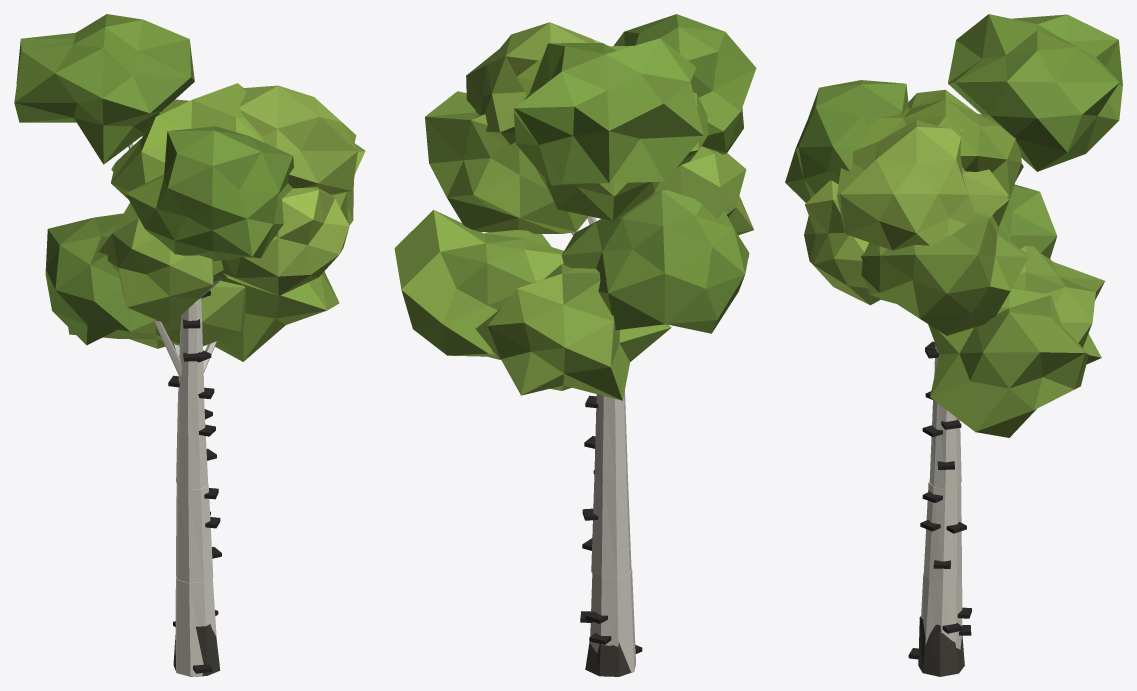
The model's file is Tree_Birch.glb.
3 renders of one model, left to right at view 1: azimuth 30°, elevation 25°; view 2: azimuth 150°, elevation 25°; view 3: azimuth 270°, elevation 25°, orthographic. The views are drawn at different scales.
Visible parts, largest first — view 1: Mat_Leaves_72933b, Mat_Leaves_7d9f40, Mat_Leaves_8aac47, Mat_Cloth_dfdbcf, Mat_Stone_2f2d2a, Mat_Stone_282624, Mat_Cloth_c8c4ba; view 2: Mat_Leaves_72933b, Mat_Leaves_7d9f40, Mat_Leaves_8aac47, Mat_Cloth_dfdbcf, Mat_Stone_2f2d2a, Mat_Stone_282624; view 3: Mat_Leaves_72933b, Mat_Leaves_8aac47, Mat_Leaves_7d9f40, Mat_Cloth_dfdbcf, Mat_Stone_2f2d2a, Mat_Stone_282624.
Boxes of the visible parts, left/top/right/bottom form: Mat_Leaves_72933b: left=14, top=14, right=364, bottom=361; Mat_Leaves_7d9f40: left=20, top=15, right=364, bottom=361; Mat_Leaves_8aac47: left=22, top=27, right=365, bottom=348; Mat_Cloth_dfdbcf: left=175, top=298, right=216, bottom=676; Mat_Stone_2f2d2a: left=168, top=290, right=220, bottom=676; Mat_Stone_282624: left=173, top=387, right=221, bottom=673; Mat_Cloth_c8c4ba: left=128, top=143, right=221, bottom=376; Mat_Leaves_72933b: left=394, top=14, right=755, bottom=390; Mat_Leaves_7d9f40: left=413, top=14, right=756, bottom=400; Mat_Leaves_8aac47: left=401, top=22, right=753, bottom=400; Mat_Cloth_dfdbcf: left=590, top=390, right=635, bottom=673; Mat_Stone_2f2d2a: left=585, top=395, right=630, bottom=676; Mat_Stone_282624: left=580, top=436, right=642, bottom=653; Mat_Leaves_72933b: left=785, top=14, right=1118, bottom=437; Mat_Leaves_8aac47: left=804, top=14, right=1103, bottom=435; Mat_Leaves_7d9f40: left=785, top=14, right=1122, bottom=409; Mat_Cloth_dfdbcf: left=921, top=344, right=962, bottom=649; Mat_Stone_2f2d2a: left=918, top=341, right=964, bottom=676; Mat_Stone_282624: left=908, top=391, right=971, bottom=659.
Bounding box in the file's own units: 10.11 × 20.33 × 10.06.
Materials: 1 (1 with a texture image).
